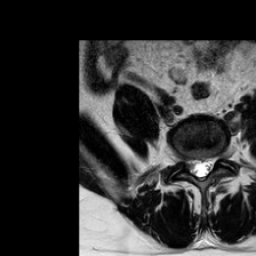CCS_normal: (196, 148, 204, 188)
LFS_stenosis: (213, 143, 222, 169)
LLS_normal: (204, 148, 213, 179)
RFS_stenosis: (178, 145, 187, 171)
RLS_normal: (187, 150, 196, 180)
